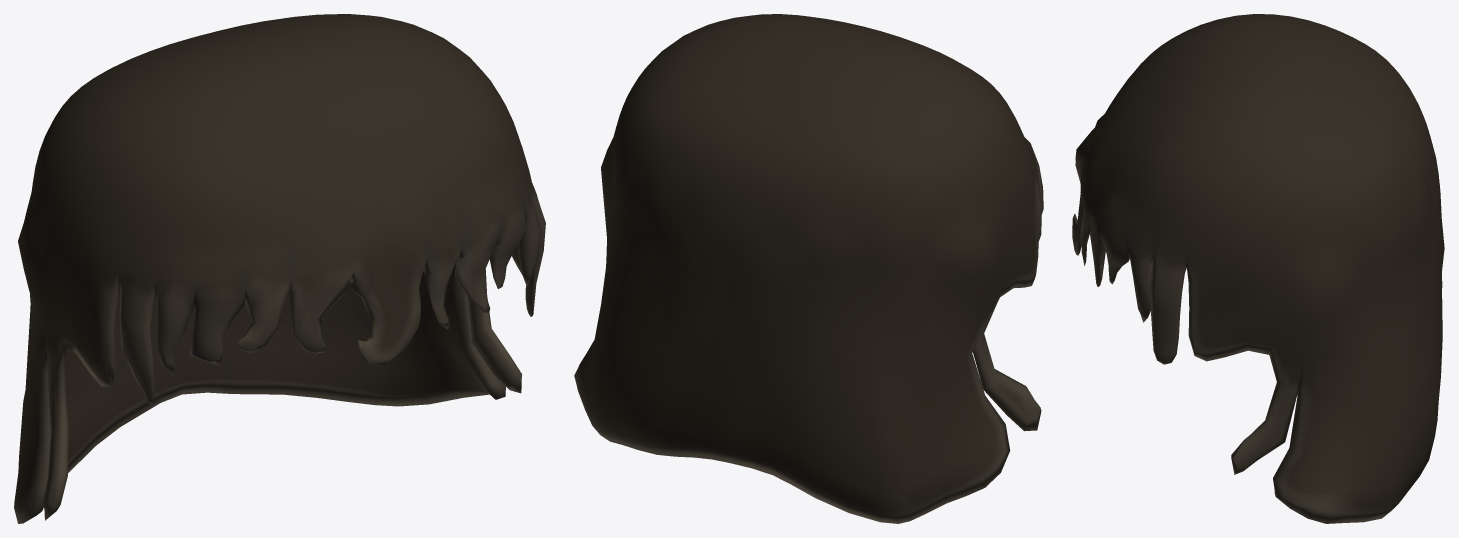
The model's file is OG_Brown.glb.
The picture shows the model from 3 angles, left to right: view 1: azimuth 30°, elevation 25°; view 2: azimuth 150°, elevation 25°; view 3: azimuth 270°, elevation 25°; orthographic projection. The views are drawn at different scales.
Visible parts, largest first — view 1: OG_Brown; view 2: OG_Brown; view 3: OG_Brown.
Boxes of the visible parts, box(x1,y1,x2,y2) form: OG_Brown: box(14, 14, 545, 523); OG_Brown: box(574, 14, 1043, 523); OG_Brown: box(1072, 14, 1444, 523).
Bounding box in the file's own units: 1.07 × 0.9721 × 0.8194.
Materials: 1 (1 with a texture image).
